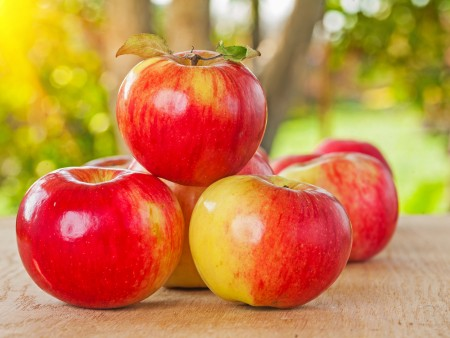apple: (17, 165, 185, 307), (189, 176, 353, 309), (117, 51, 269, 175)
